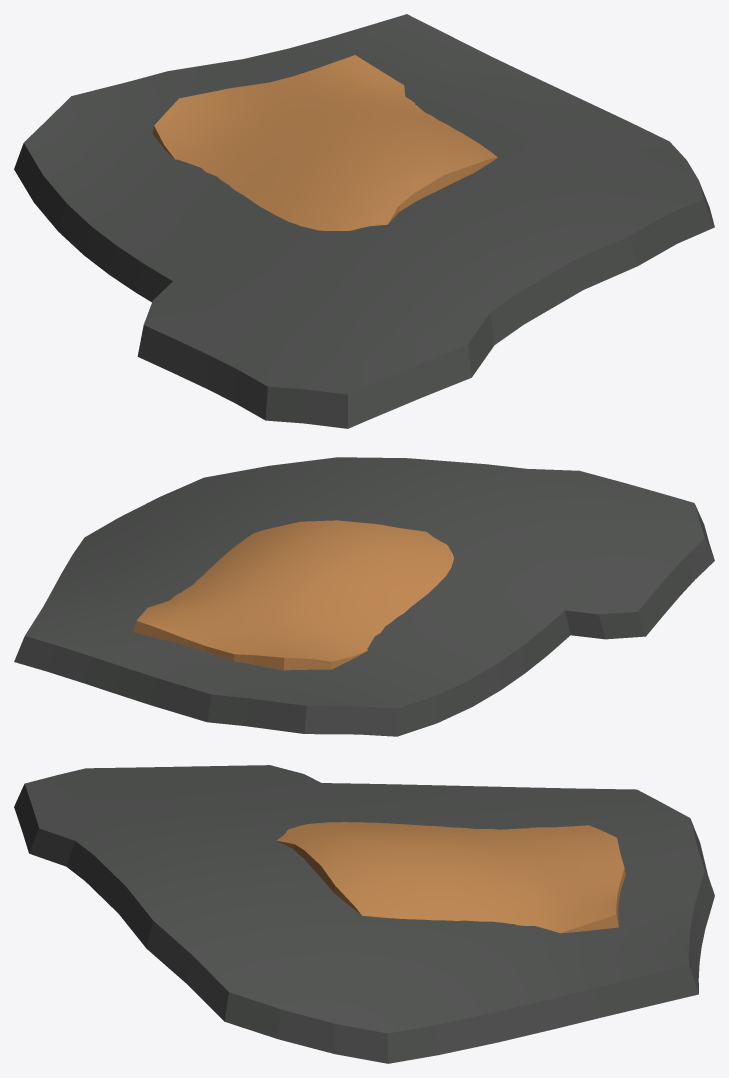
Rendered from SM_Worldmap_B02_Col.FBX.
The picture shows the model from 3 angles, top to bottom: view 1: azimuth 30°, elevation 25°; view 2: azimuth 150°, elevation 25°; view 3: azimuth 270°, elevation 25°; orthographic projection. The views are drawn at different scales.
Parts seen in each view (by area): view 1: Object043; view 2: Object043; view 3: Object043.
Boxes of the visible parts, x1=… form: Object043: x1=14, y1=14, x2=714, y2=428; Object043: x1=14, y1=457, x2=714, y2=736; Object043: x1=14, y1=765, x2=714, y2=1063.
Bounding box in the file's own units: 288 × 40.24 × 317.
